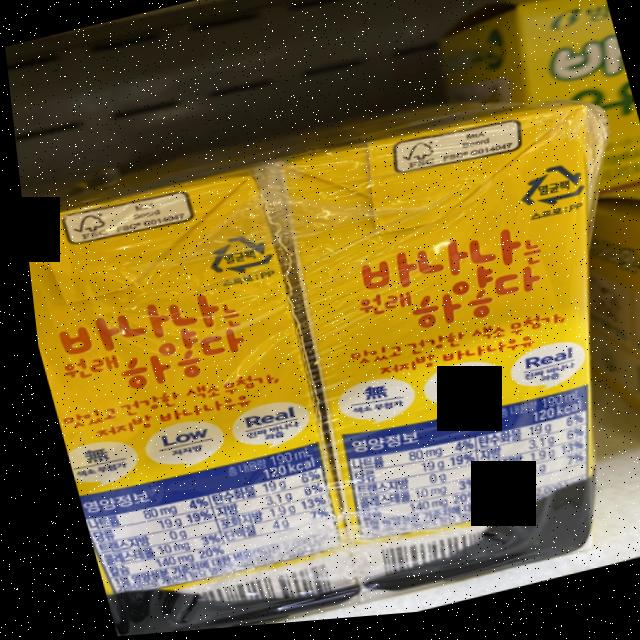SterilizedPack: (506, 166, 586, 221), (192, 230, 268, 283)
